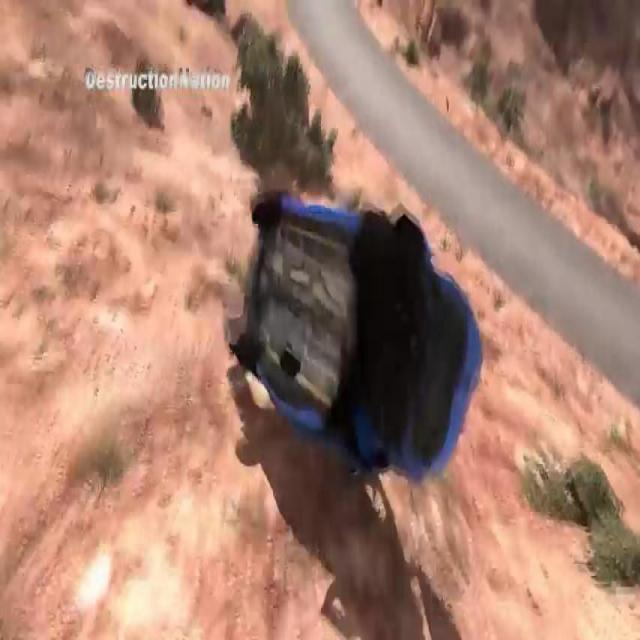high-cars-accident: (215, 149, 480, 509)
